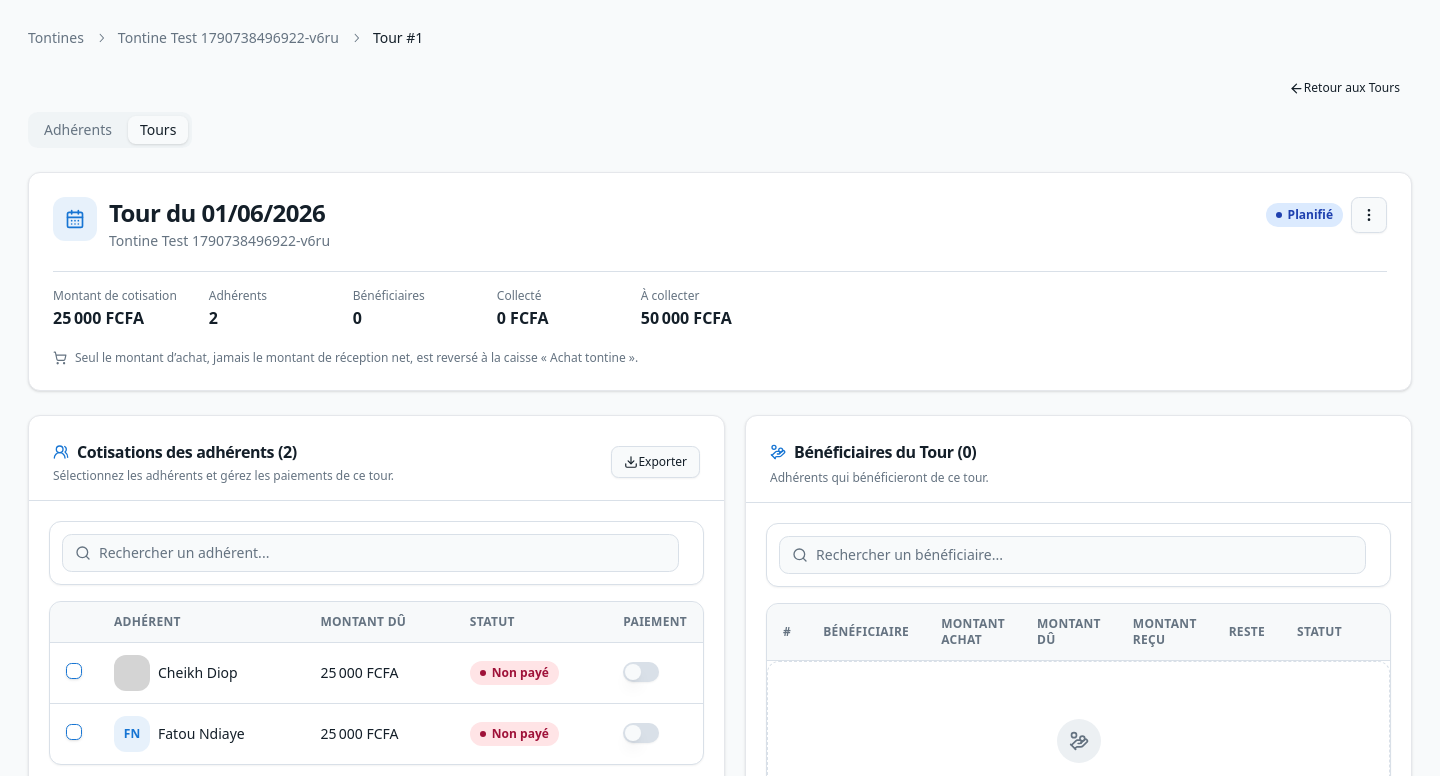
Scenario: Espace de travail du Tour — Cotisations (colonne gauche) › ON : bascule le paiement d’un adhérent — applique automatiquement le montant attendu, sans saisie manuelle
Expected: the text "Fatou Ndiaye" is shown, top-left (158, 724), bottom-right (245, 743)
Click the switch named "Marquer Fatou Ndiaye comme réglé".
click(641, 732)  # box top-left (623, 722), bottom-right (659, 742)
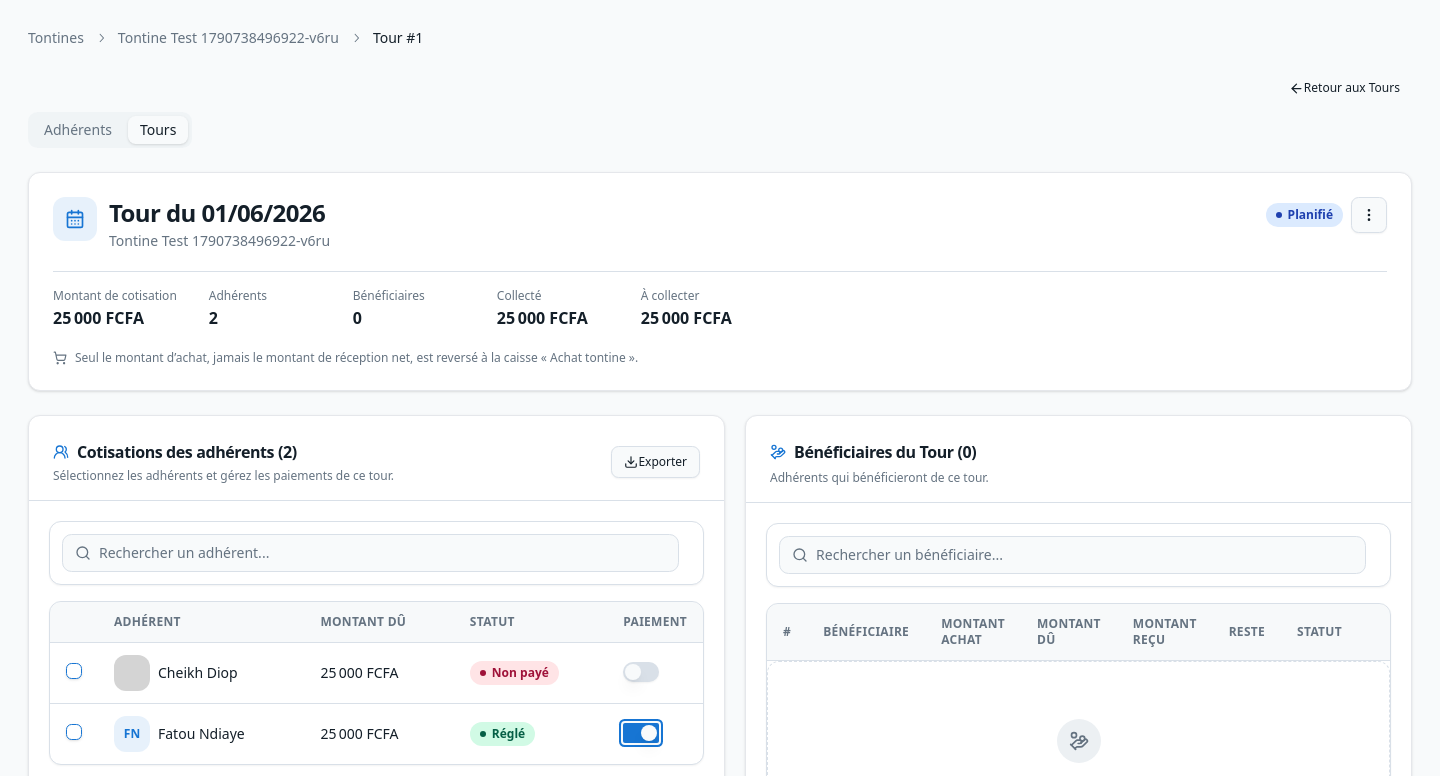
Now the switch named "Marquer Fatou Ndiaye comme non payé" is shown, box top-left (623, 722), bottom-right (659, 742)
